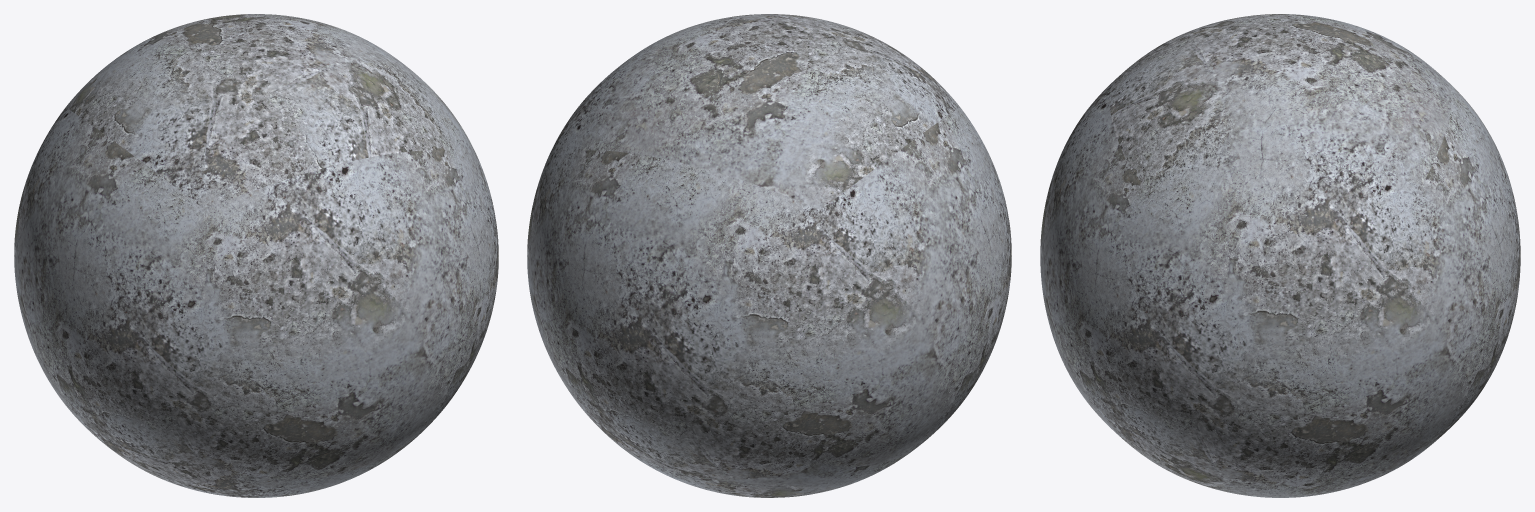
Rendered from concrete_material.glb.
3 views of the same model, side by side, from view 1: azimuth 30°, elevation 25°; view 2: azimuth 150°, elevation 25°; view 3: azimuth 270°, elevation 25° (orthographic).
Visible parts, largest first — view 1: Cube; view 2: Cube; view 3: Cube.
Part boxes in pixels (x1,y1,x2,y2): Cube: (14,14,498,497); Cube: (527,14,1011,497); Cube: (1040,14,1520,497).
Size of the model in its own units: 1.82 by 1.82 by 1.82.
Materials: 1 (1 with a texture image).
